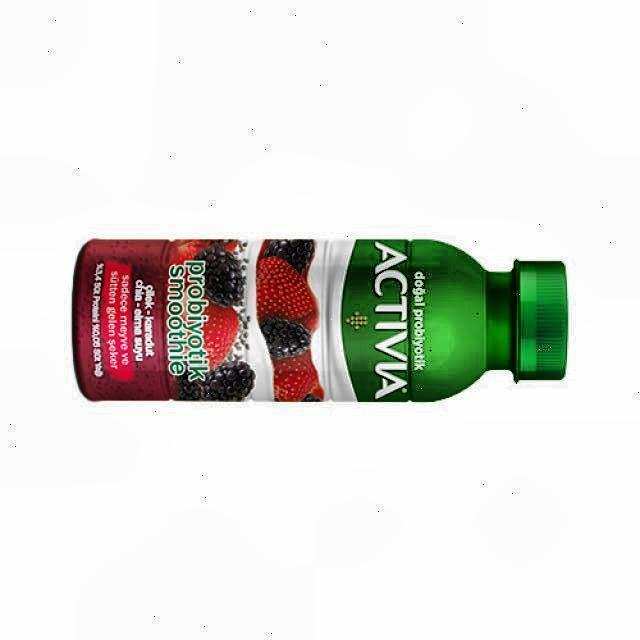plastic: (73, 239, 567, 402)
